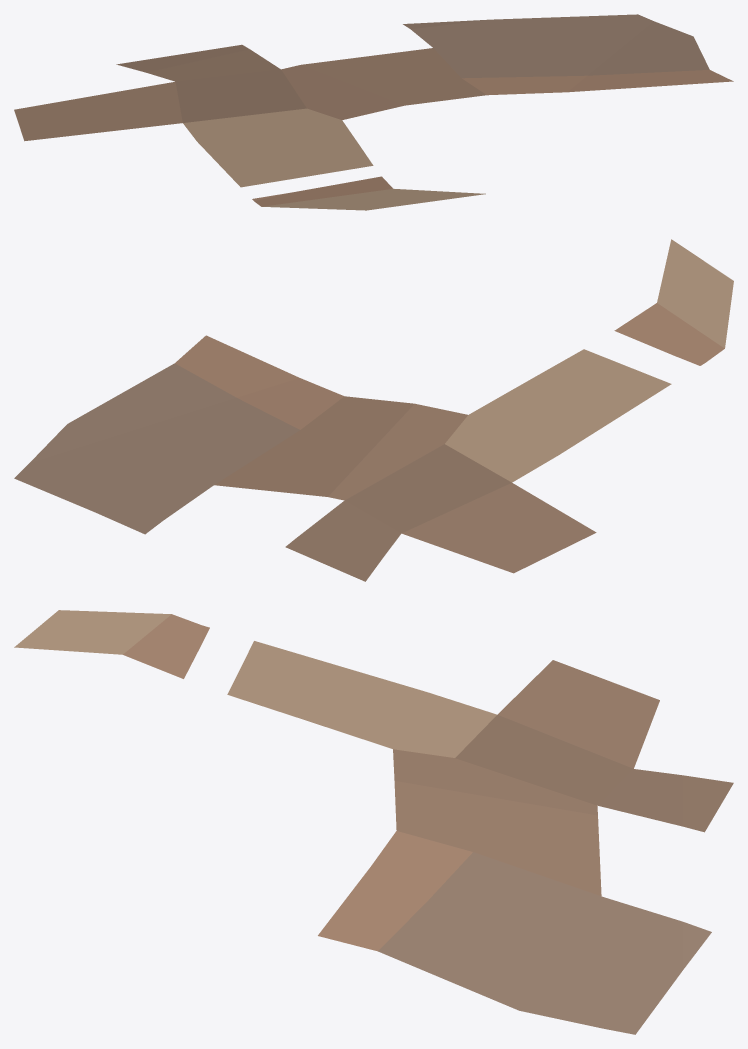
File: farm_-34_-44_soil.glb
3 views of the same model, one above another, from view 1: azimuth 30°, elevation 25°; view 2: azimuth 150°, elevation 25°; view 3: azimuth 270°, elevation 25° (orthographic). The views are drawn at different scales.
Parts seen in each view (by area): view 1: geometry_0; view 2: geometry_0; view 3: geometry_0.
Part boxes in pixels (x1=…): geometry_0: x1=14, y1=14, x2=733, y2=210; geometry_0: x1=14, y1=239, x2=733, y2=581; geometry_0: x1=14, y1=610, x2=733, y2=1034.
Size of the model in its own units: 123 by 30.09 by 120.
